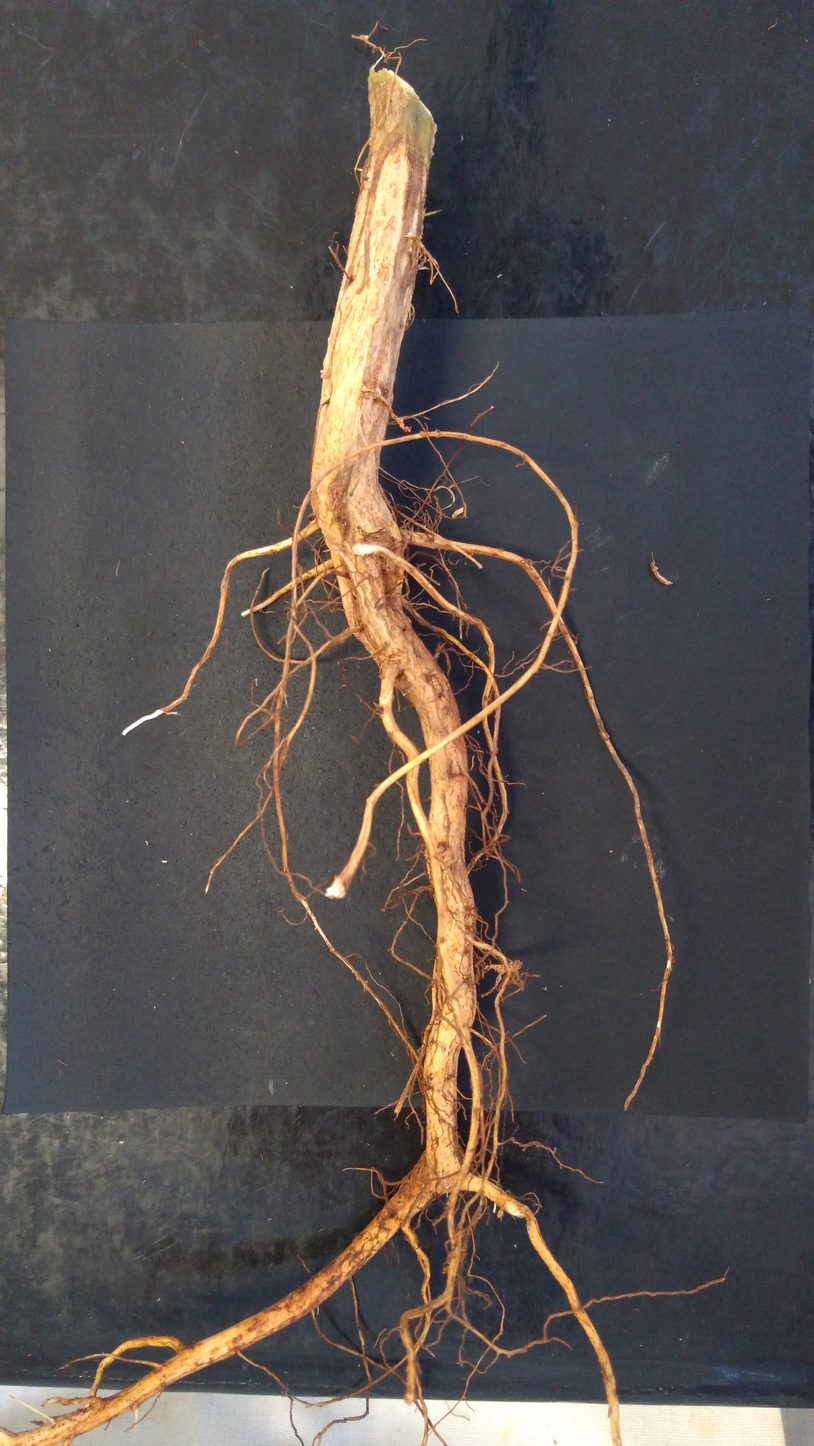nodule: (490, 960, 523, 973), (451, 505, 467, 519)
